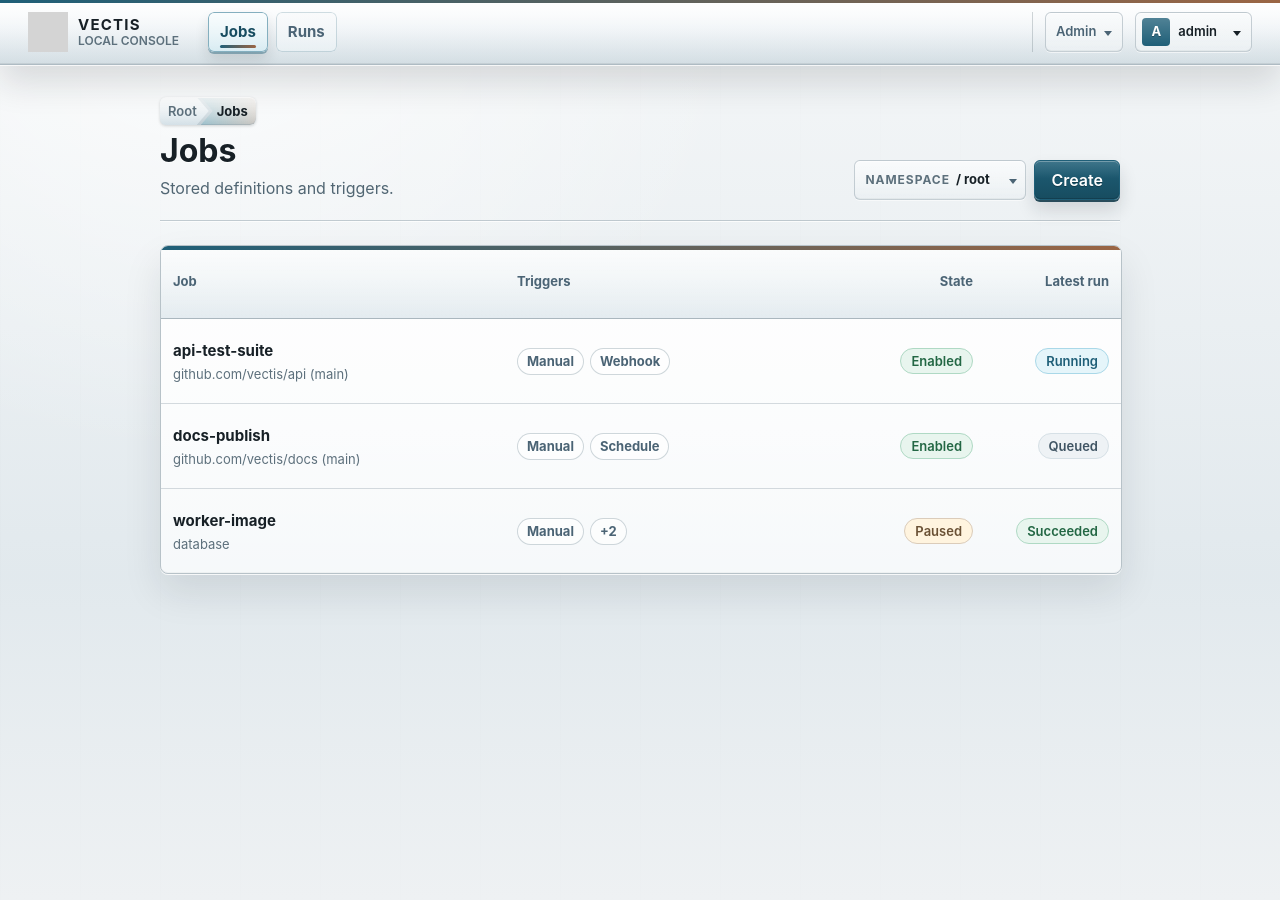
Test: App › scopes jobs by selected namespace
Expected: the heading "Jobs" is shown, [160,131,236,170]
Click the heading labelled "Namespace / root".
click(940, 180)  # box [854,160,1026,200]
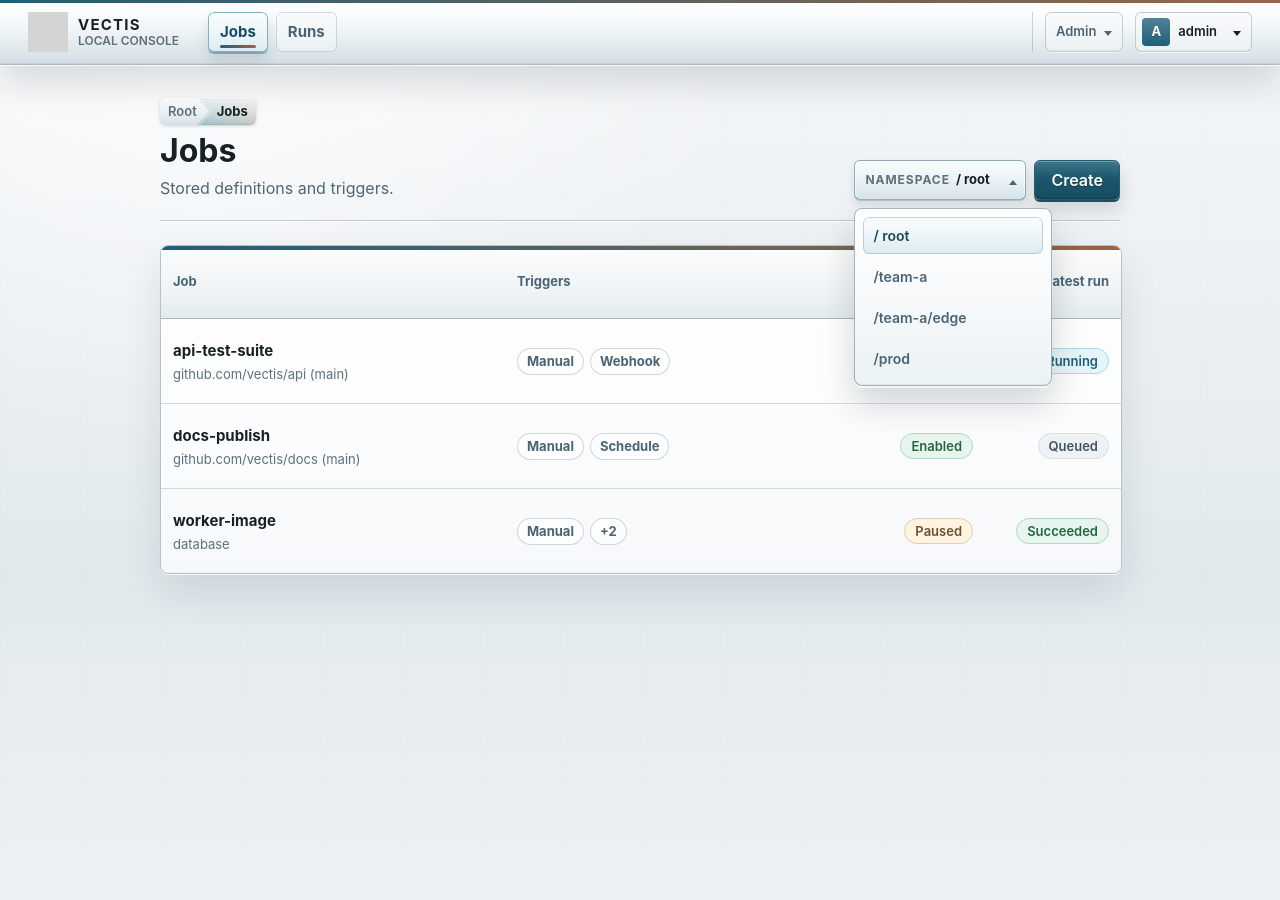
Click the button "/prod".
click(954, 359)  # box [864,340,1044,377]
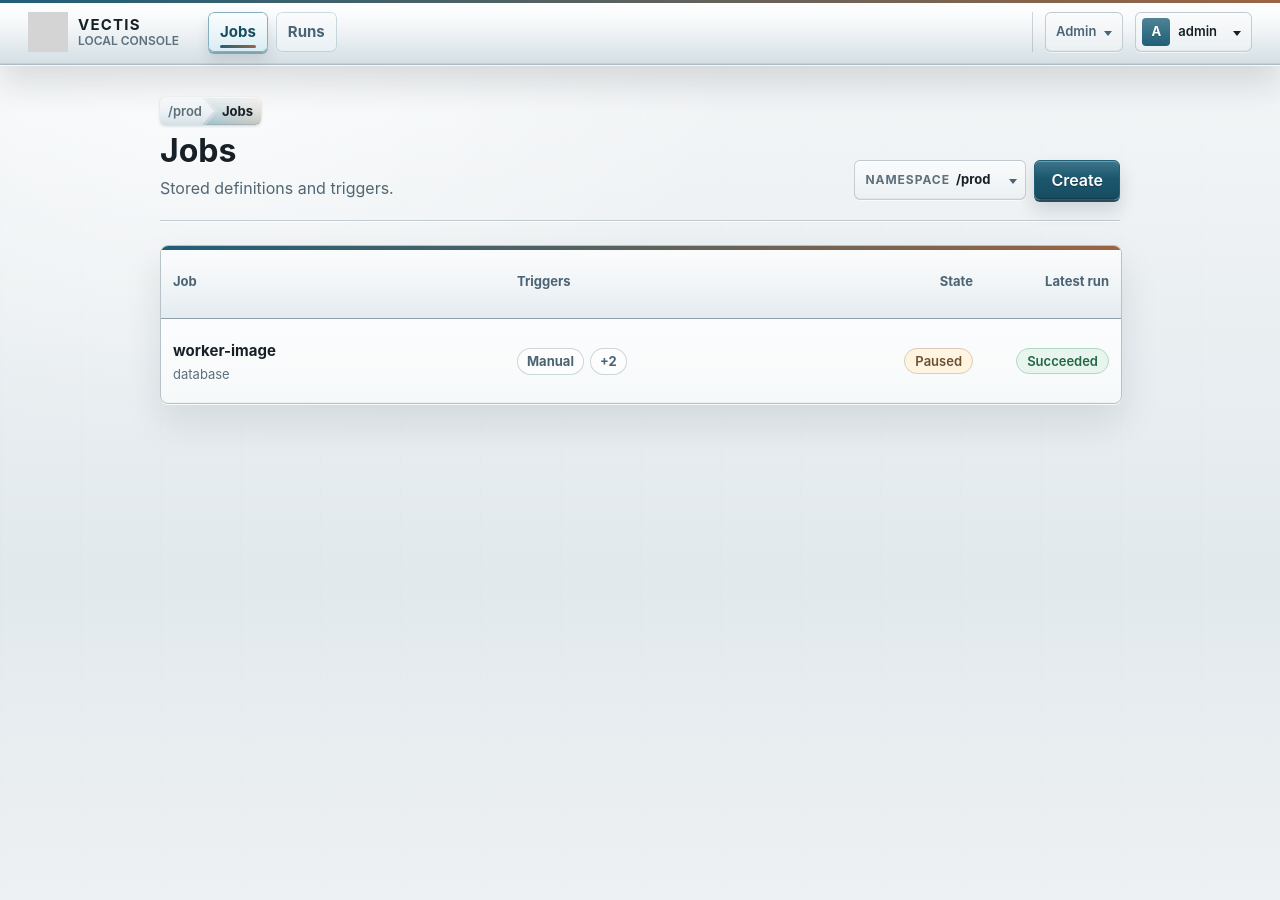
Expected: the text "worker-image" is shown, [173,341,276,360]
Now the button "api-test-suite" is gone
